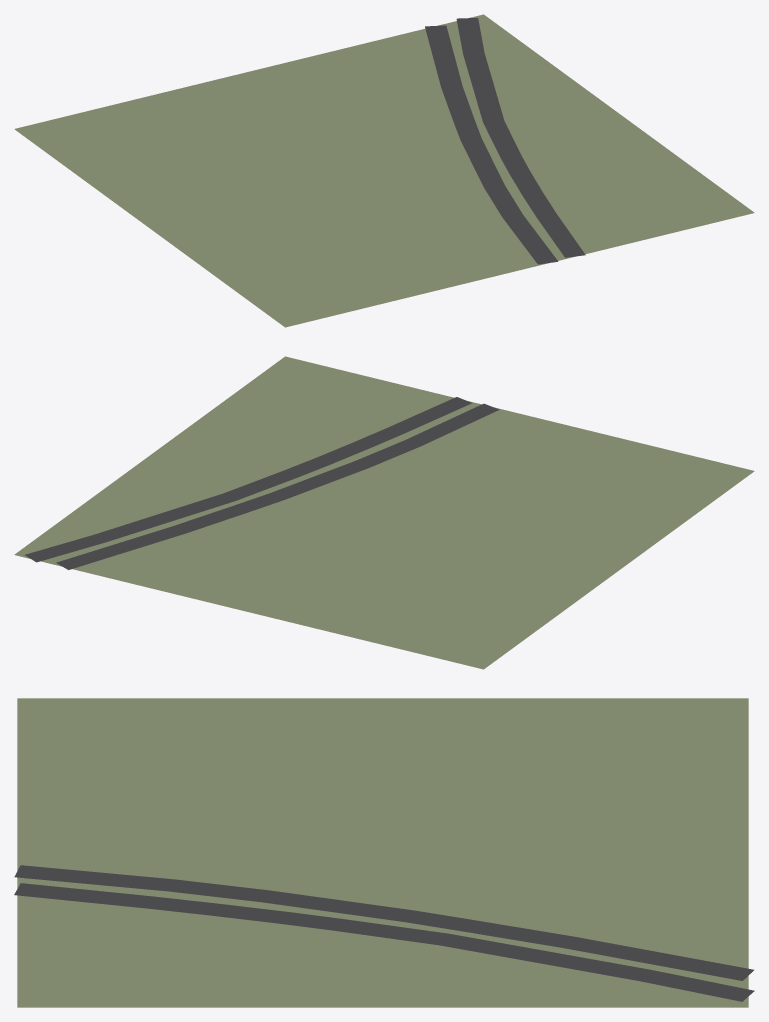
The picture shows the model from 3 angles, top to bottom: view 1: azimuth 30°, elevation 25°; view 2: azimuth 150°, elevation 25°; view 3: azimuth 270°, elevation 25°; orthographic projection. The views are drawn at different scales.
Parts seen in each view (by area): view 1: ground, road; view 2: ground, road; view 3: ground, road.
Boxes of the visible parts, x1,y1,x2,y2 form: ground: [14, 14, 754, 327]; road: [425, 18, 585, 264]; ground: [14, 356, 754, 669]; road: [25, 397, 499, 569]; ground: [17, 698, 748, 1007]; road: [14, 865, 754, 1001].
Bounding box in the file's own units: 250 × 0.12 × 253.
